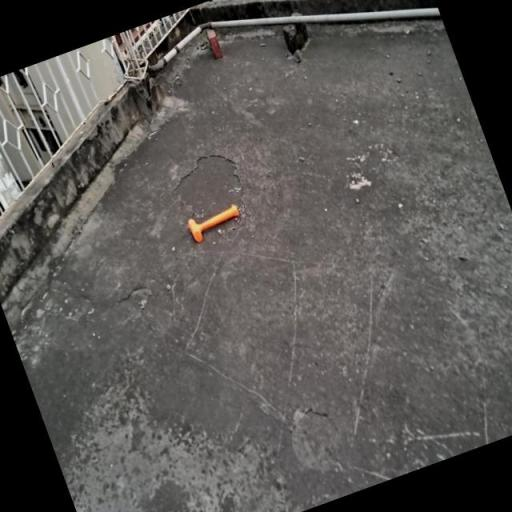mallet: (187, 202, 244, 244)
